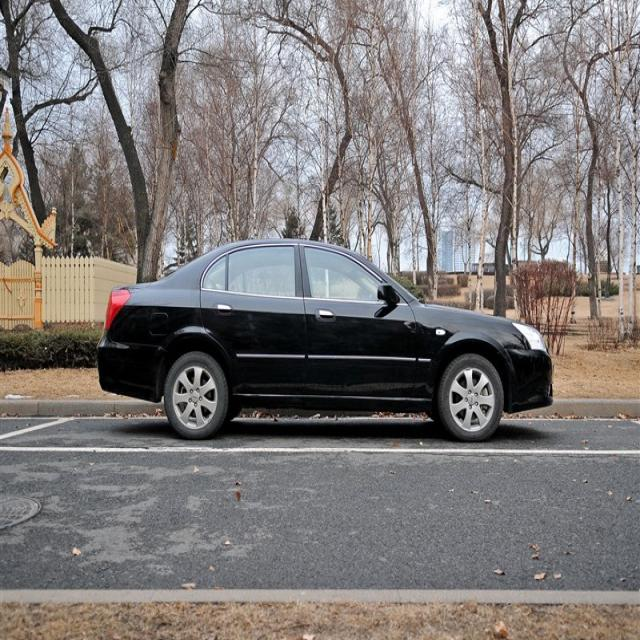back_right_side_light: (104, 284, 131, 333)
door: (198, 239, 302, 402)
front_bumper: (502, 350, 556, 412)
front_right_side_door: (298, 240, 416, 408)
front_right_side_light: (510, 318, 548, 354)
front_right_side_mirror: (376, 280, 398, 311)
rear_bumper: (97, 334, 165, 403)
wheel: (438, 354, 504, 442), (164, 351, 228, 436)
